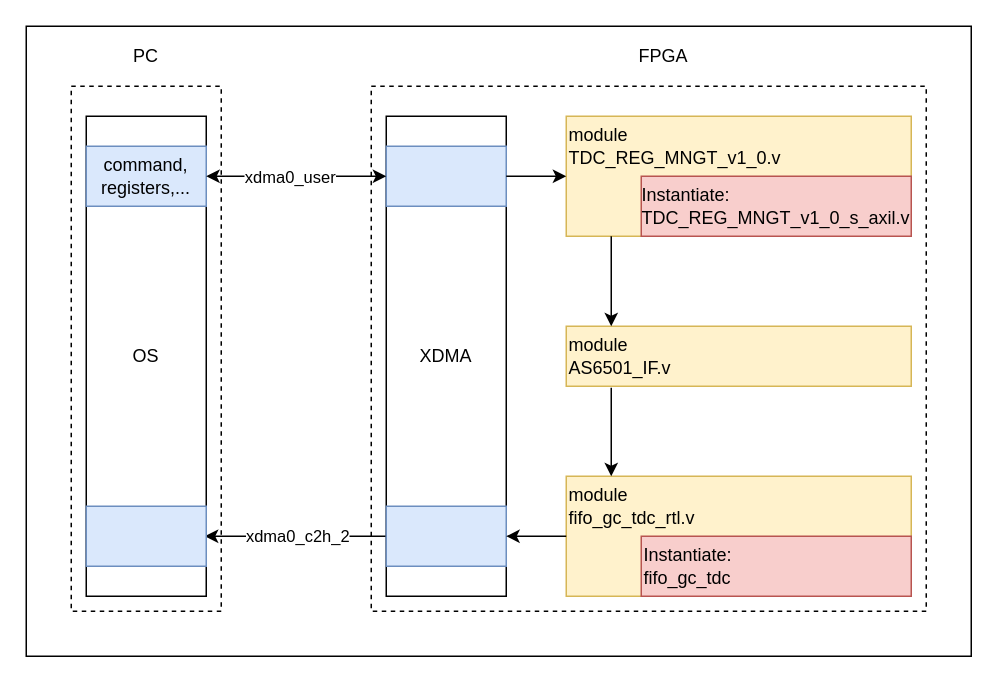
Image size: 998x683. Some labels were removed from this diagram. Here are the shapes that lost their labels. From the top down, the centre of each, then its label:
At [445,175]: "AXIL".
At [145,535]: "read time data".
At [445,535]: "AXIS".
